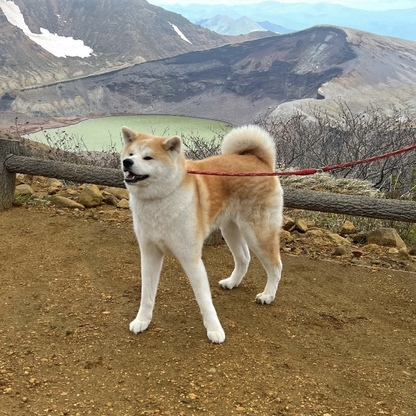akita: (115, 122, 288, 348)
